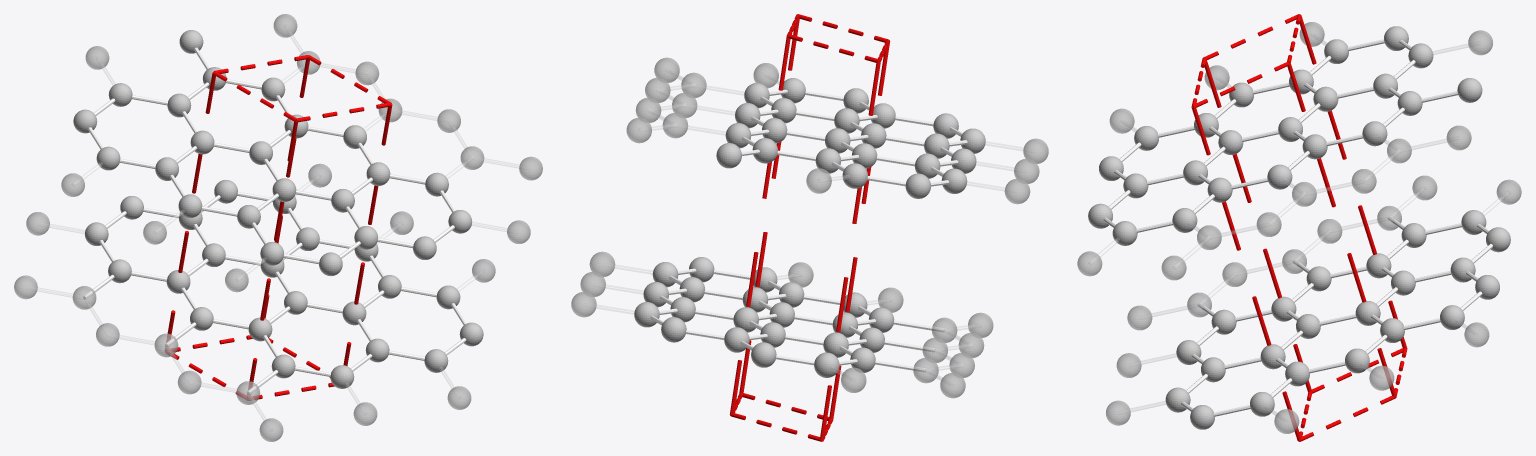
Rendered from Graphit.glb.
3 views of the same model, side by side, from view 1: azimuth 30°, elevation 25°; view 2: azimuth 150°, elevation 25°; view 3: azimuth 270°, elevation 25° (orthographic). The views are drawn at different scales.
Parts seen in each view (by area): view 1: no part large enough to name; view 2: Atom.78, Atom.80, Atom.44, Atom.54, Atom.56, Atom.68, Atom.67, Atom.66, Atom.82, Atom.79, Atom.81, Atom.43 (+54 smaller); view 3: Atom.42, Atom.59, Atom.64, Atom.80, Atom.81, Atom.32, Atom.36, Atom.56, Atom.57, Atom.61, Atom.75, Atom.76 (+56 smaller).
Boxes of the visible parts, x1,y1,x2,y2 form: Atom.78: (1004,178,1030,204); Atom.80: (806,168,831,193); Atom.44: (814,352,839,377); Atom.54: (842,163,867,188); Atom.56: (662,112,688,138); Atom.68: (661,317,686,342); Atom.67: (751,342,776,367); Atom.66: (841,367,866,392); Atom.82: (626,117,651,143); Atom.79: (905,173,930,198); Atom.81: (716,143,741,168); Atom.43: (913,357,938,383); Atom.42: (1345,348,1369,373); Atom.59: (1116,353,1141,377); Atom.64: (1369,365,1394,390); Atom.80: (1468,30,1492,55); Atom.81: (1457,78,1482,102); Atom.32: (1172,208,1197,232); Atom.36: (1362,121,1387,146); Atom.56: (1387,138,1411,163); Atom.57: (1127,305,1152,330); Atom.61: (1106,400,1130,425); Atom.75: (1161,255,1186,280); Atom.76: (1256,212,1281,236).
Size of the model in its own units: 11.58 by 9.11 by 10.12.
